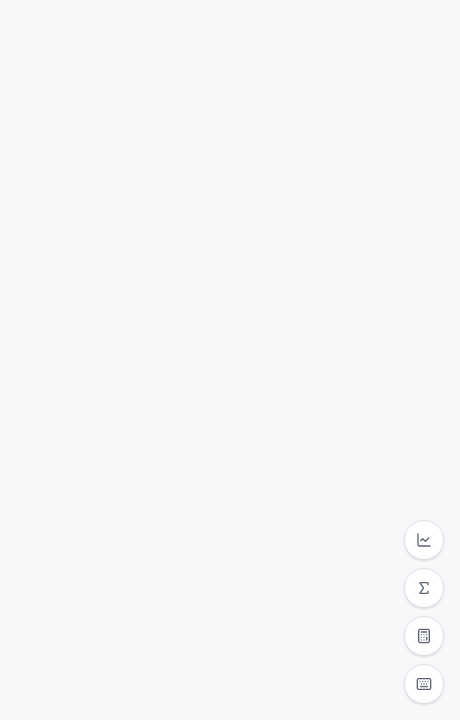
it: the calculator on a laptop › works the keypad through the same state
Click the button named "เครื่องคิดเลข" at (424,636), box [404,616,444,656]
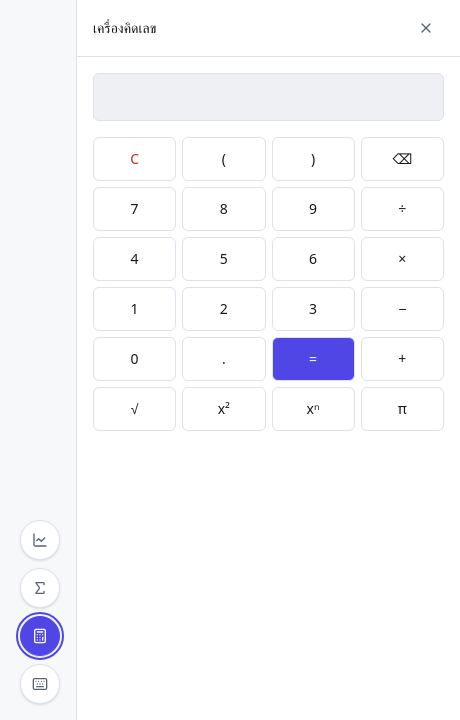
Click the button "7" at (135,209), box [93,187,176,231]
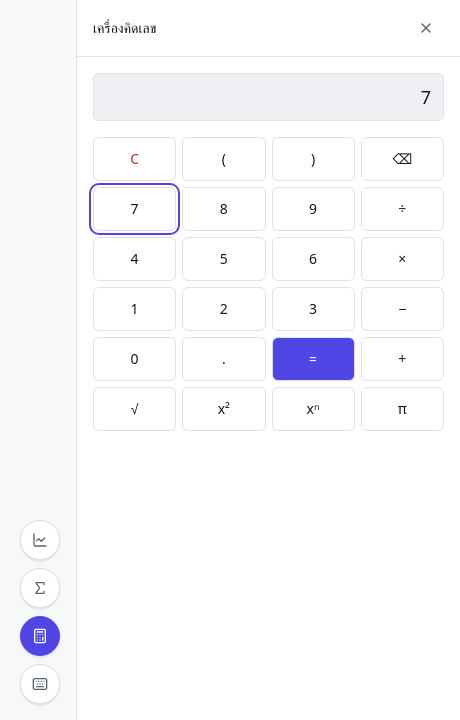
Click the button "×" at (402,259), box [361,237,444,281]
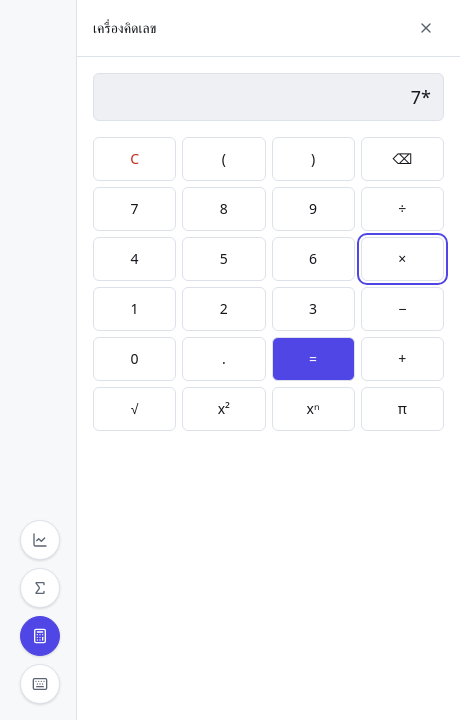
Click the button "8" at (224,209), box [182,187,266,231]
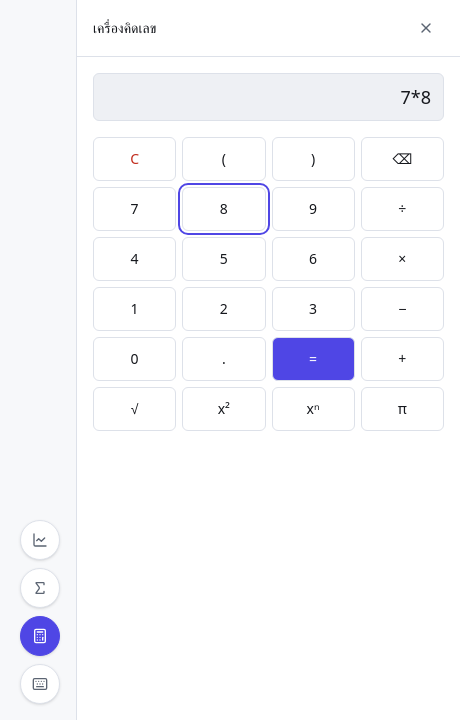
Click the button "=" at (313,359), box [272,337,355,381]
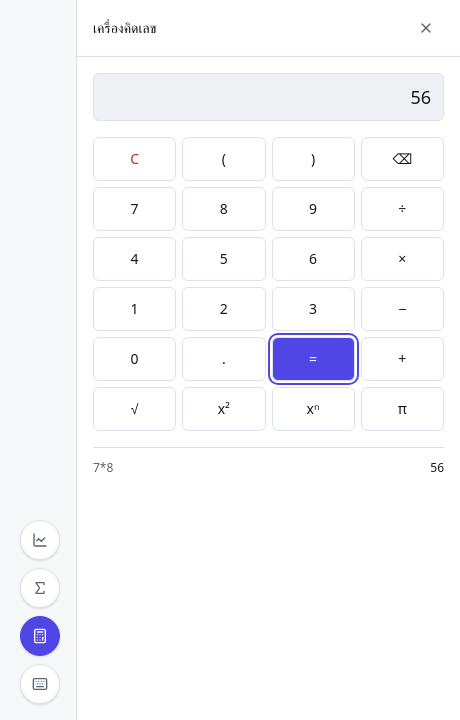
Expected: the field named "นิพจน์ที่จะคำนวณ" holds "56", [93,73,444,121]
